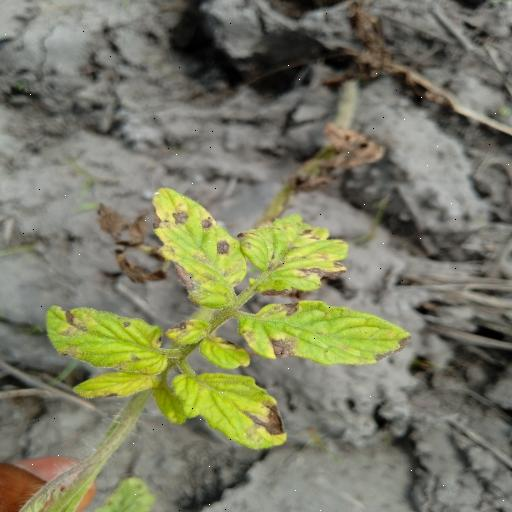Tomato_Brown_Spots: (153, 185, 252, 299), (236, 298, 414, 361), (164, 368, 294, 453), (42, 300, 174, 380), (254, 207, 352, 291)
